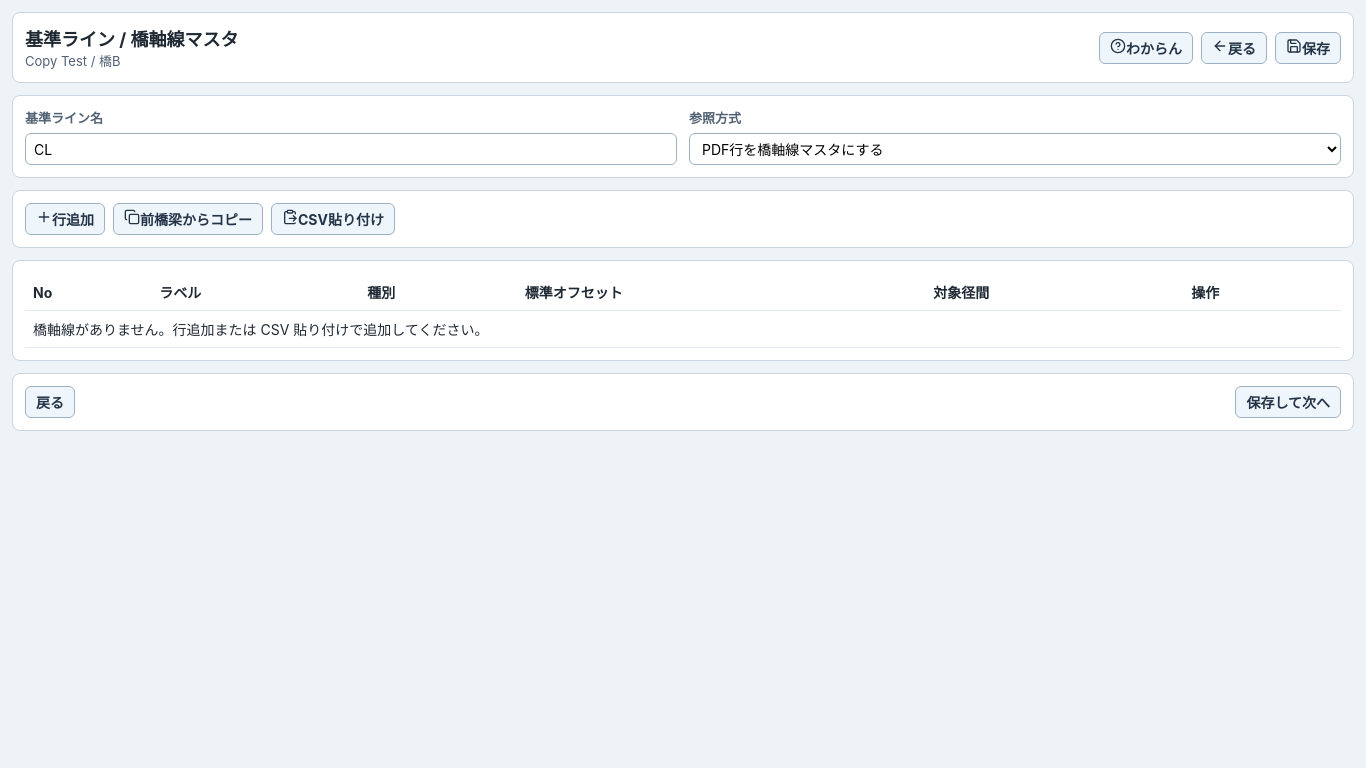
LineMasterPage › copies girder line set from previous bridge
This screenshot has width=1366, height=768.
Click the button with test id "line-master-copy-from-bridge": {"x": 188, "y": 219} x1=113 y1=203 x2=263 y2=235
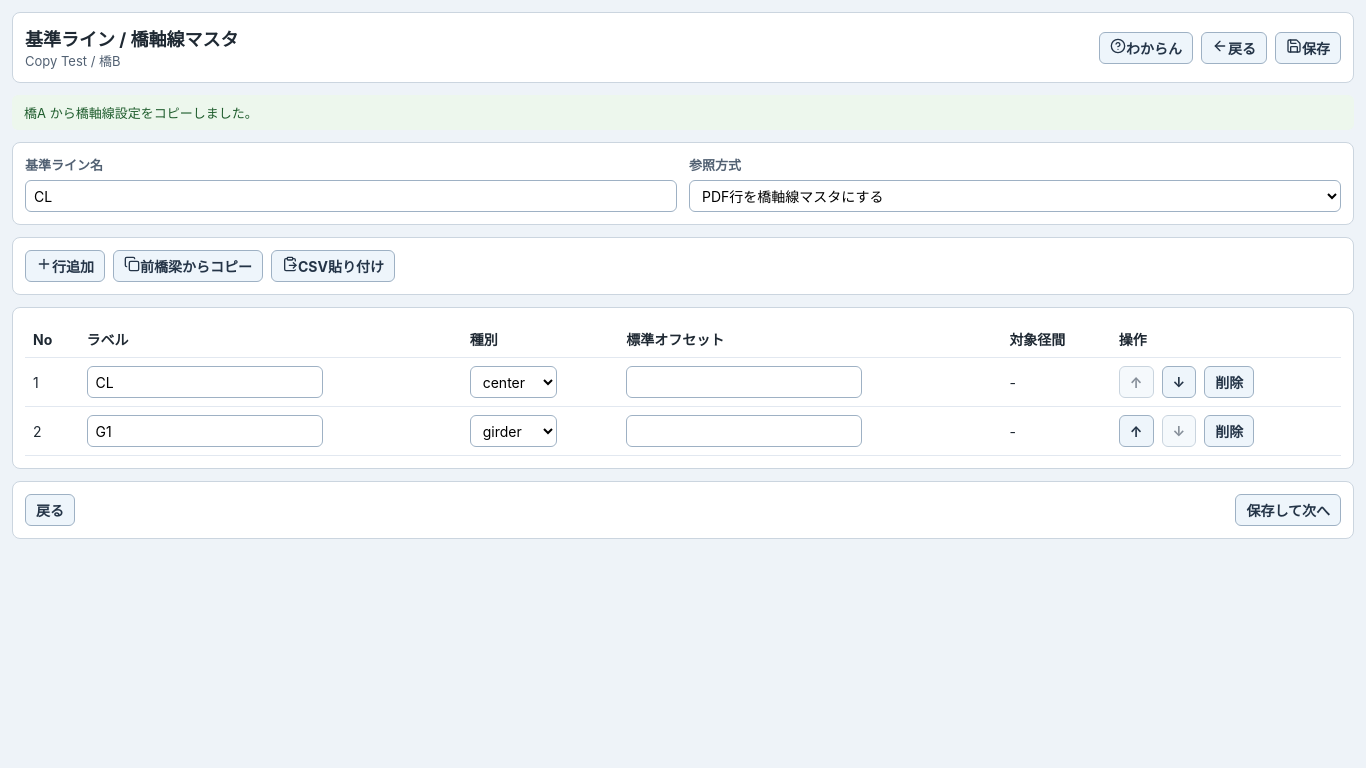
expect the text "橋A から橋軸線設定をコピーしました" is shown: met, box x1=24 y1=105 x2=258 y2=121
